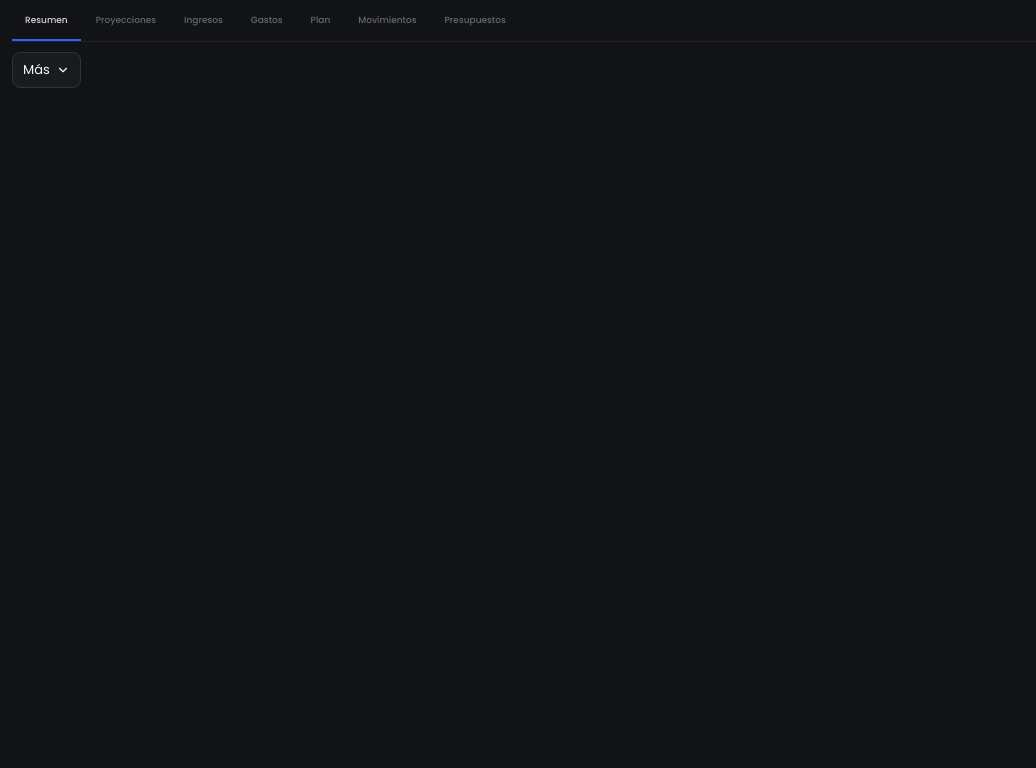
Scenario: Finance section menu › supports arrows, Home, End, Escape and outside pointer dismissal
The image size is (1036, 768).
Press ArrowDown in the button "Más", box [12, 52, 81, 88]
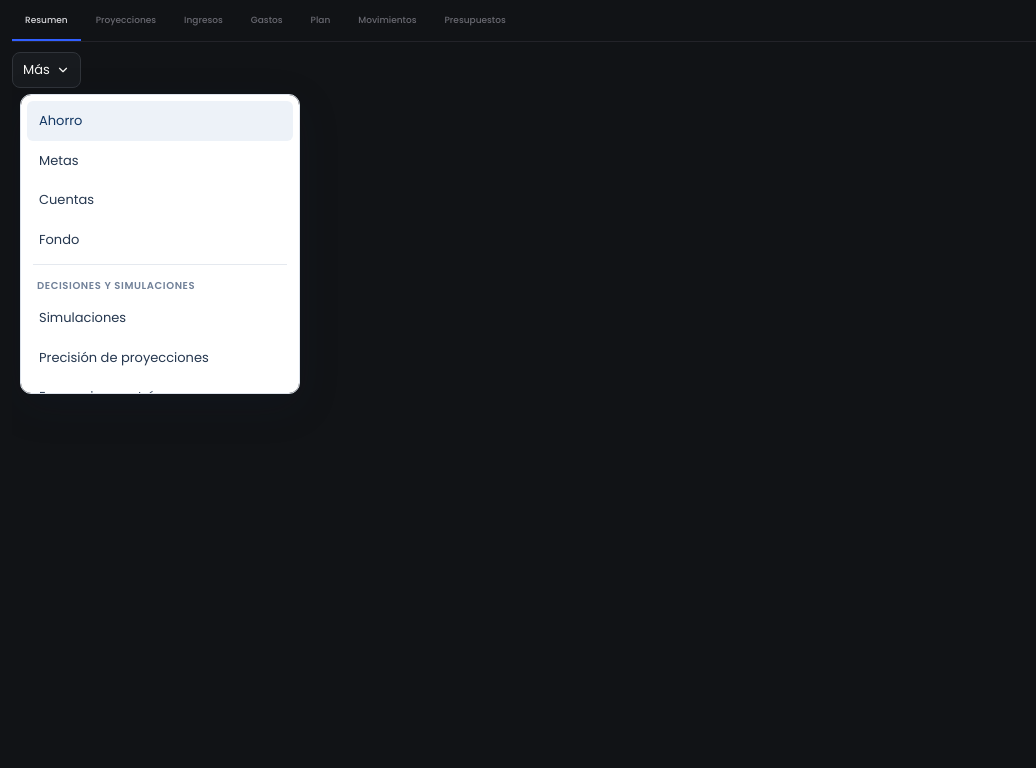
Press End in the menu, box [20, 94, 300, 394]
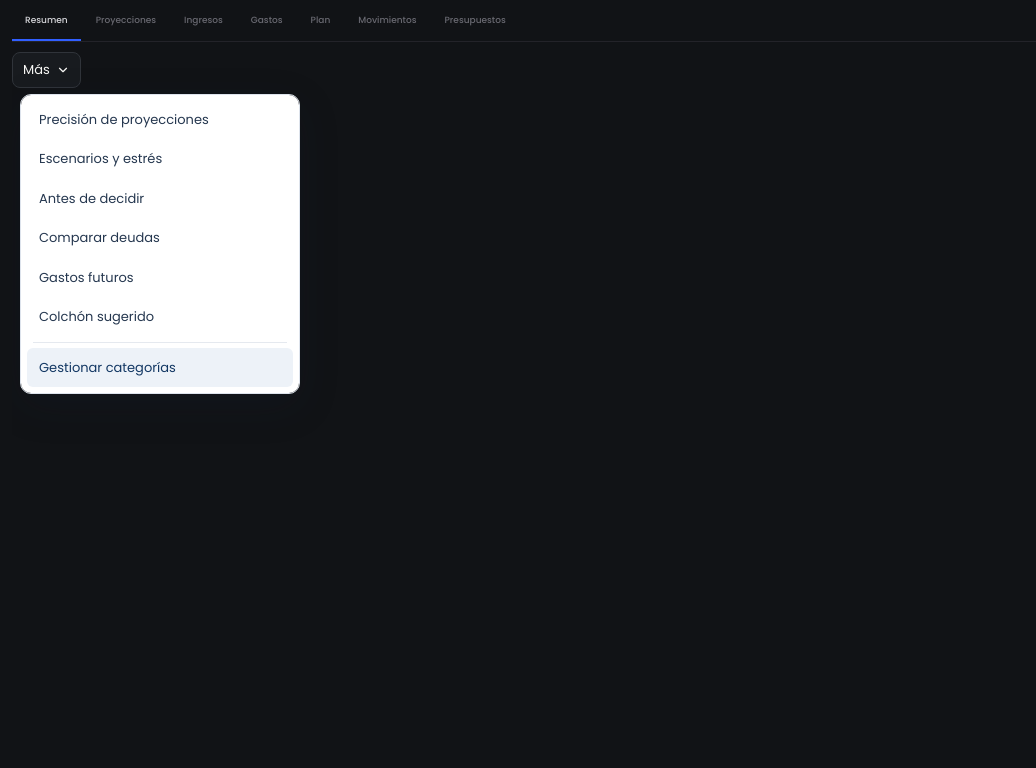
Press Home in the menu, box [20, 94, 300, 394]
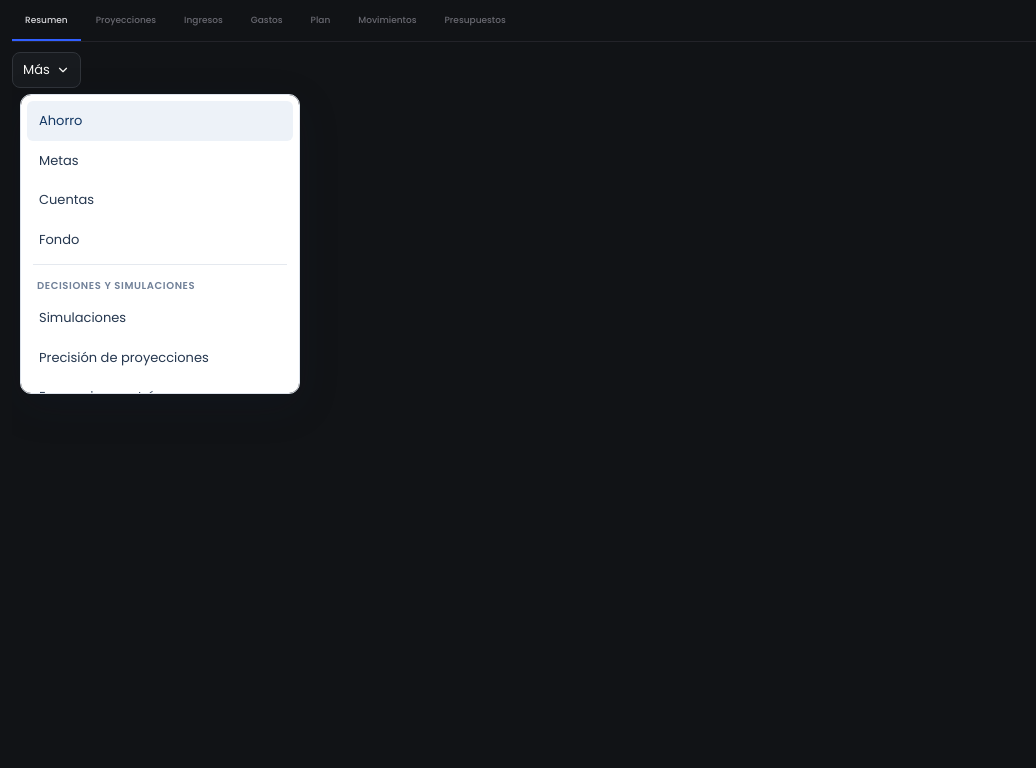
Press ArrowDown in the menu, box [20, 94, 300, 394]
Press Escape in the menu, box [20, 94, 300, 394]
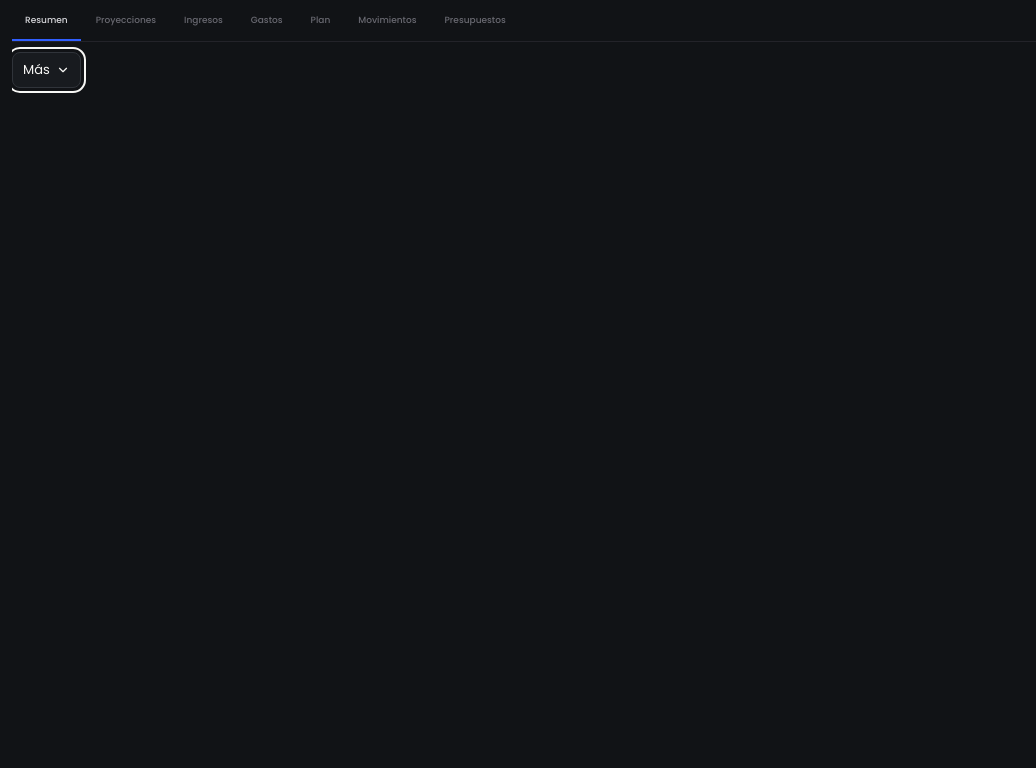
Check: the menu is gone
Click the button "Más". click: click(46, 70)
box: [12, 52, 81, 88]
(page scrolled)
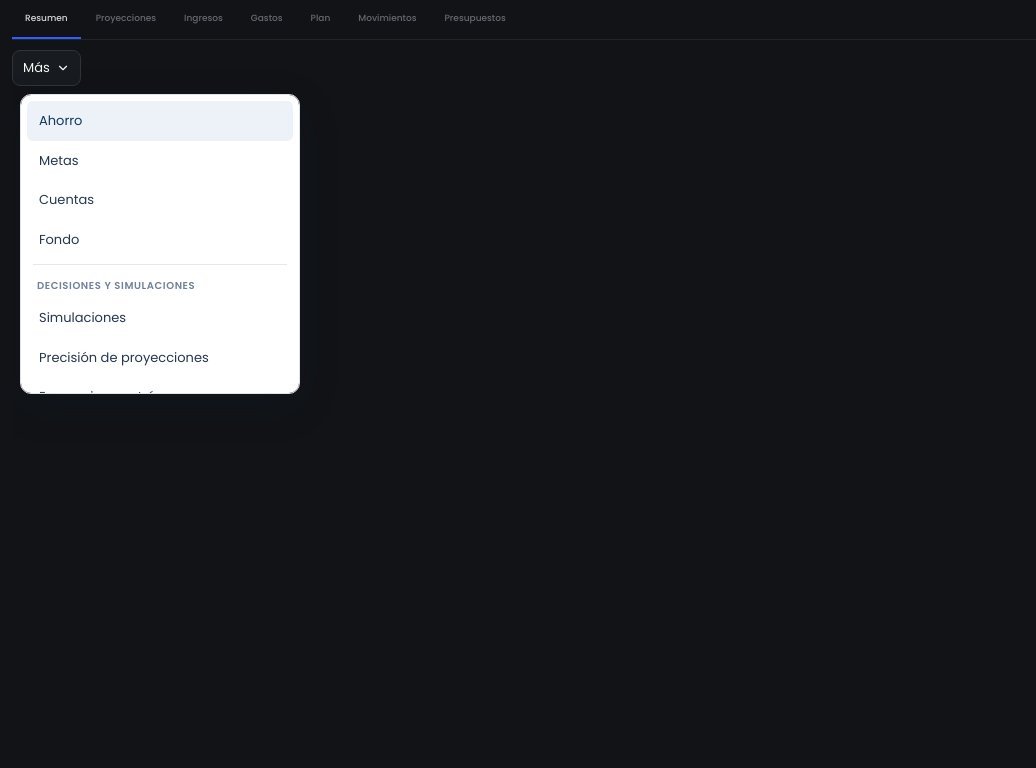
Press the mouse on the element that starts with "Resumen" at (524, 384), box [12, 0, 1035, 767]
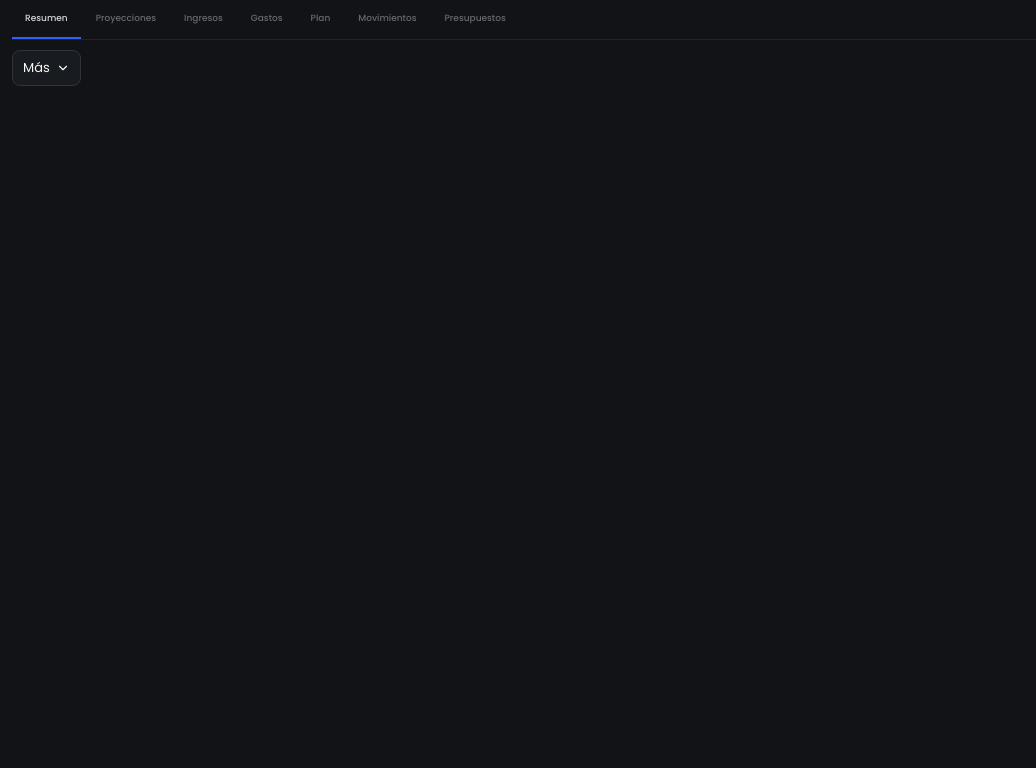
Check: the menu is gone
